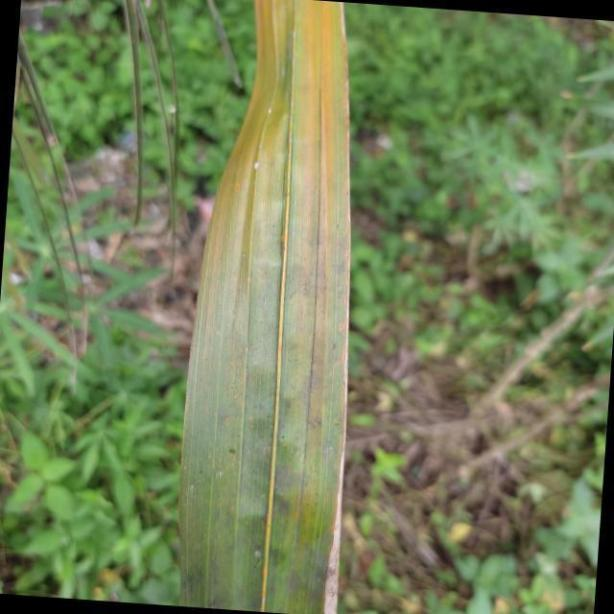Megnesium: (177, 0, 352, 614)
